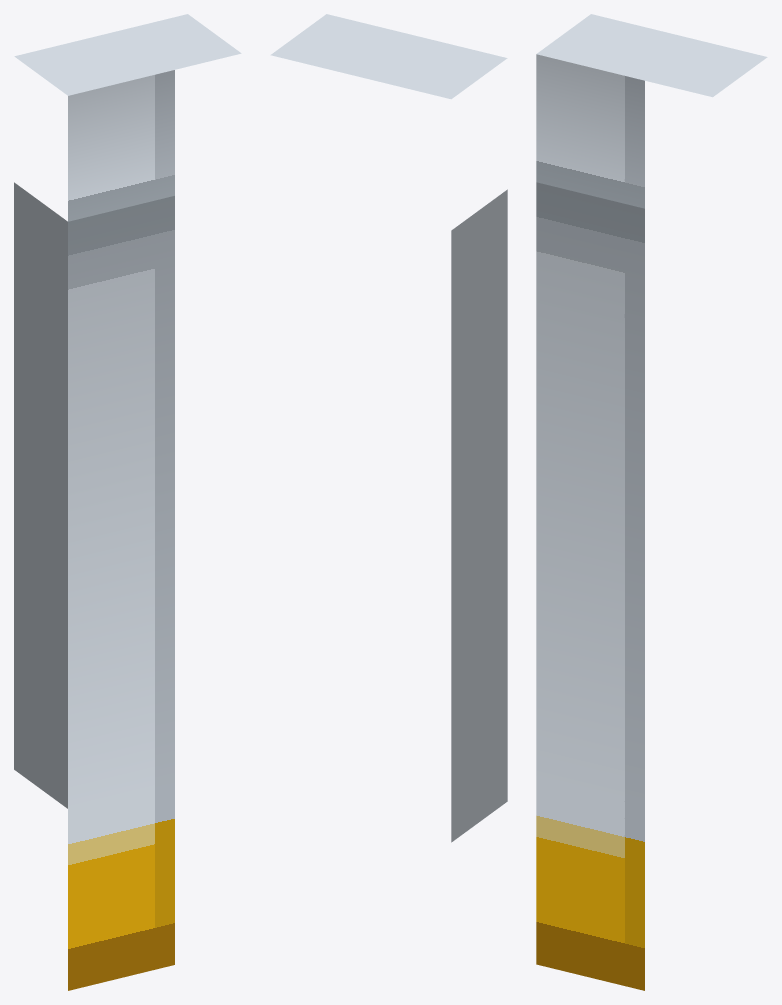
3 views of the same model, side by side, from view 1: azimuth 30°, elevation 25°; view 2: azimuth 150°, elevation 25°; view 3: azimuth 330°, elevation 25° (orthographic). The views are drawn at different scales.
Size of the model in its own units: 0.8125 by 4 by 0.4375.
Materials: 1 (1 with a texture image).
